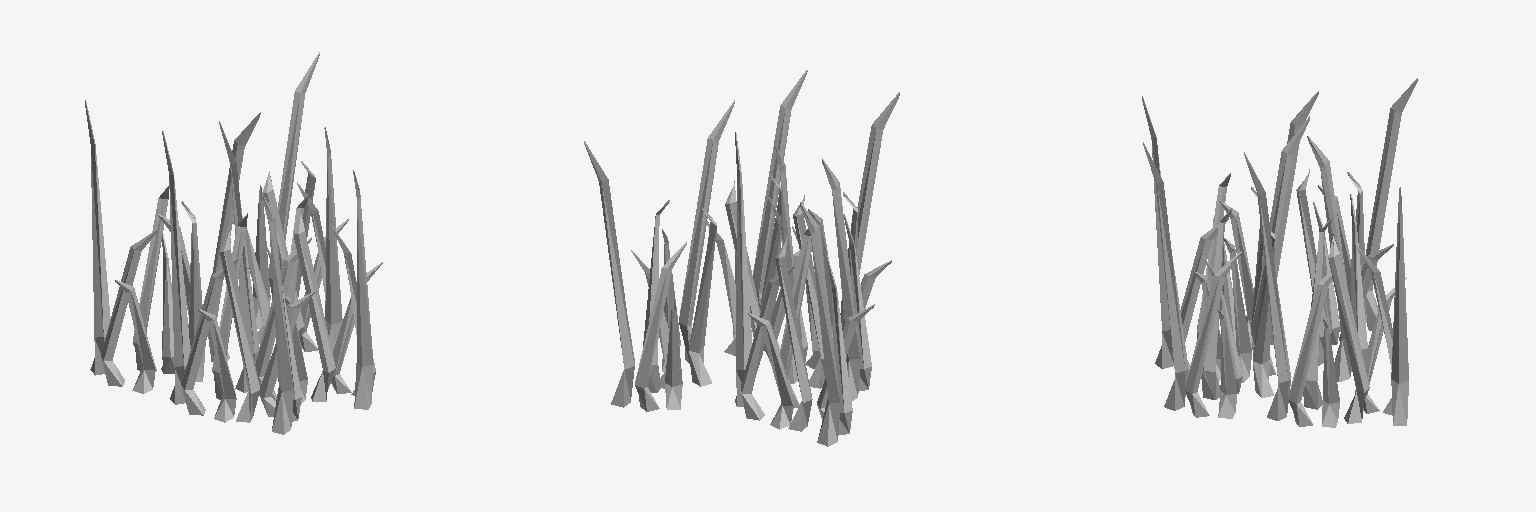
Rendered from wild_grass.obj.
3 renders of one model, left to right at view 1: azimuth 30°, elevation 25°; view 2: azimuth 150°, elevation 25°; view 3: azimuth 270°, elevation 25°, orthographic.
Parts seen in each view (by area): view 1: Plane.003; view 2: Plane.003; view 3: Plane.003.
Boxes of the visible parts, x1=… form: Plane.003: x1=85, y1=52, x2=382, y2=434; Plane.003: x1=584, y1=70, x2=899, y2=446; Plane.003: x1=1142, y1=78, x2=1417, y2=427.
Bounding box in the file's own units: 4.33 × 4.34 × 4.19.